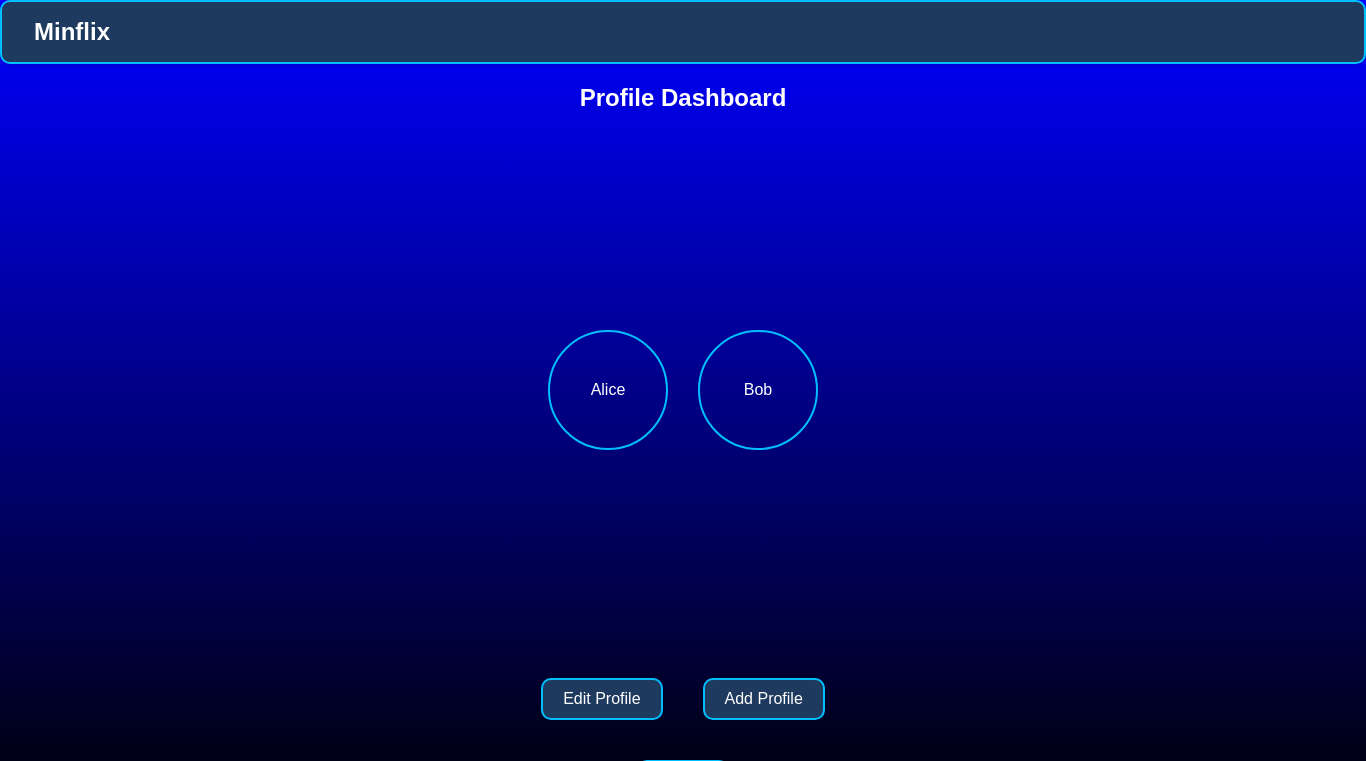
Test case: ProfilePickerPage › shows Edit Profile form when button clicked
This screenshot has width=1366, height=761.
Click the button "Edit Profile" at (602, 699), box [541,678,663,720]
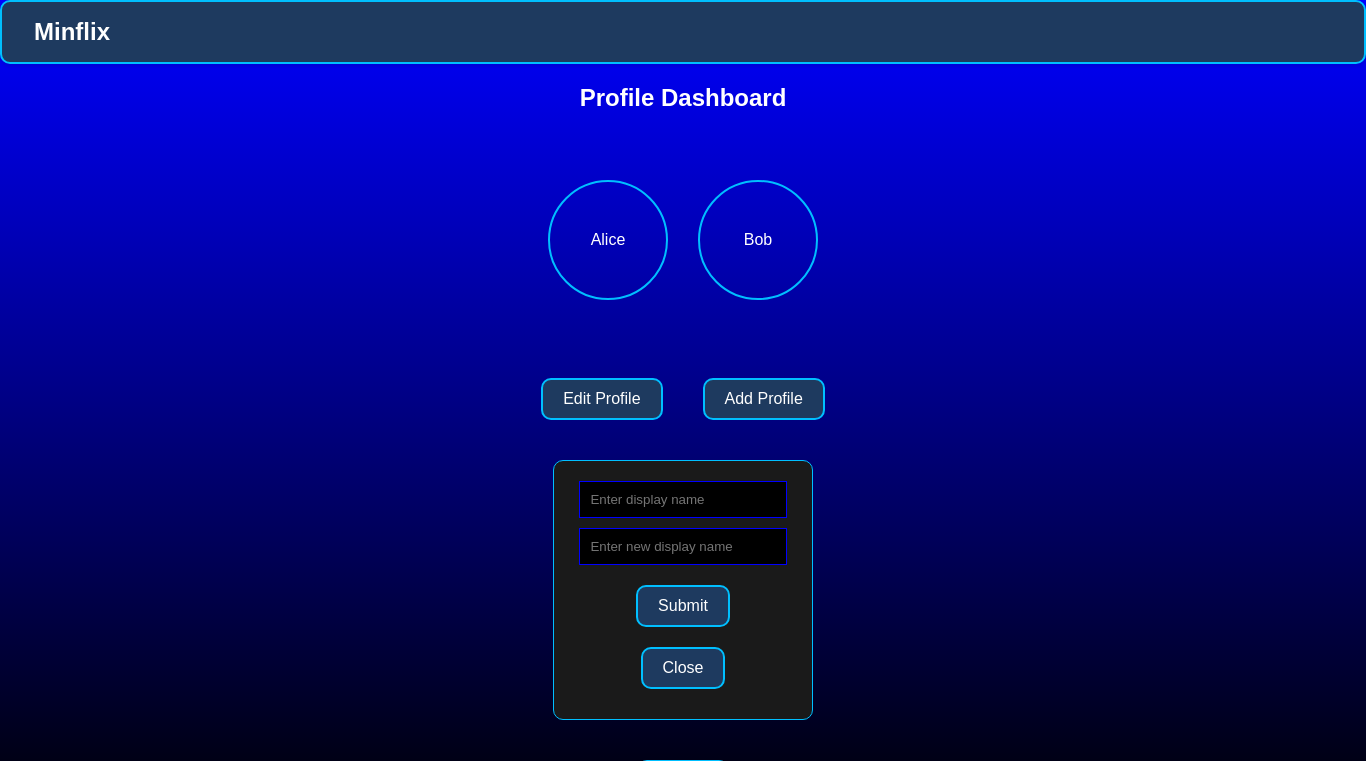
Expected: the field with placeholder "Enter new display name" is shown, [579,528,786,565]
